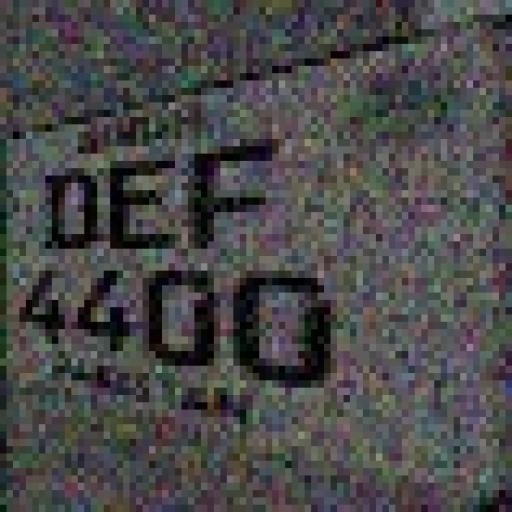0: (231, 268, 331, 380), (146, 265, 222, 367)
4: (76, 260, 136, 356), (19, 262, 71, 348)
D: (37, 177, 96, 251)
E: (105, 164, 174, 248)
F: (183, 148, 283, 249)
